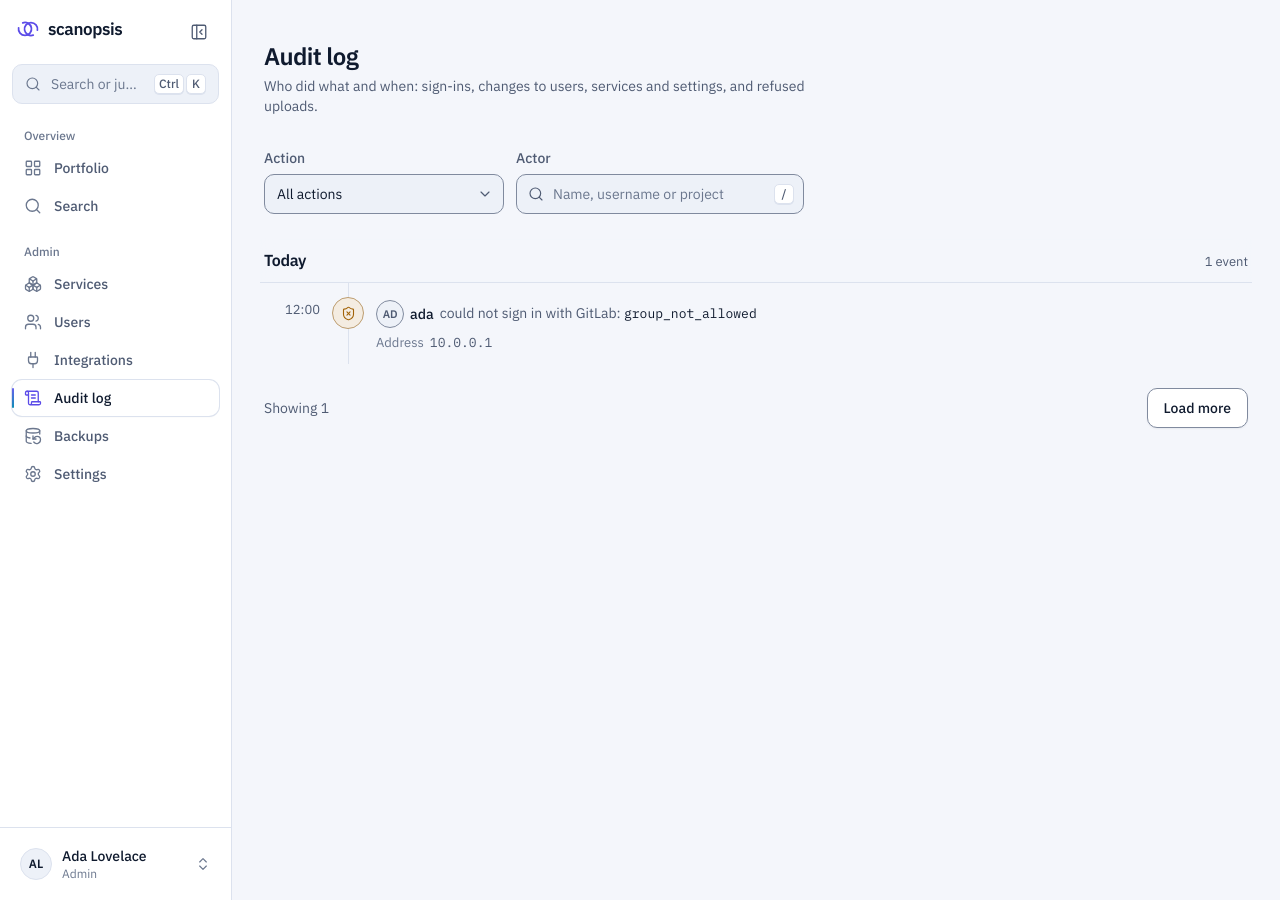
it: audit page › loads more with next_before
Check: the text "ada" is shown, box [410,300,434,328]
Click the button "Load more".
click(1197, 408)  # box [1146,388,1248,428]
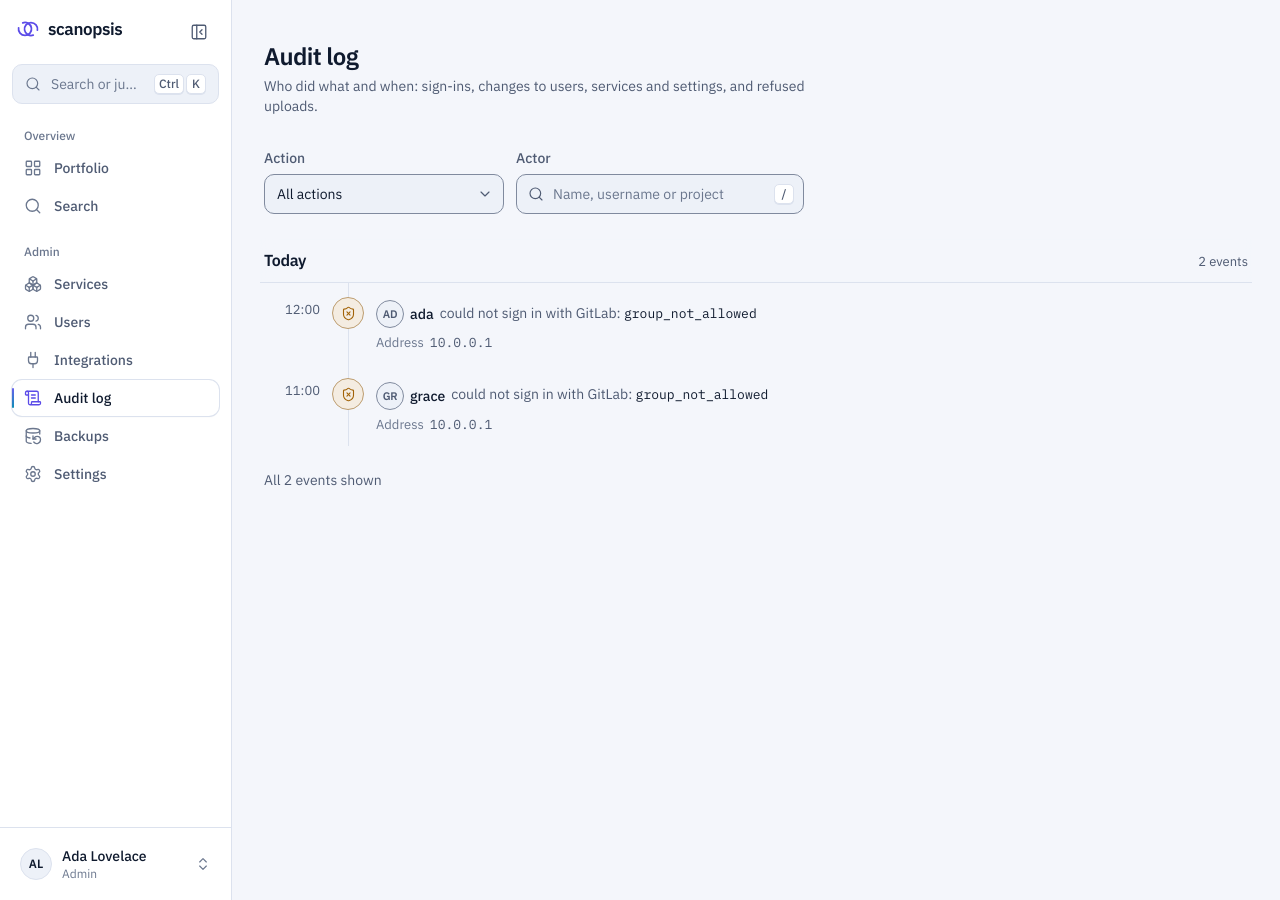
Check: the text "grace" is shown, box [410,382,445,410]
Check: the text "All 2 events shown" is shown, box [264,470,382,490]
